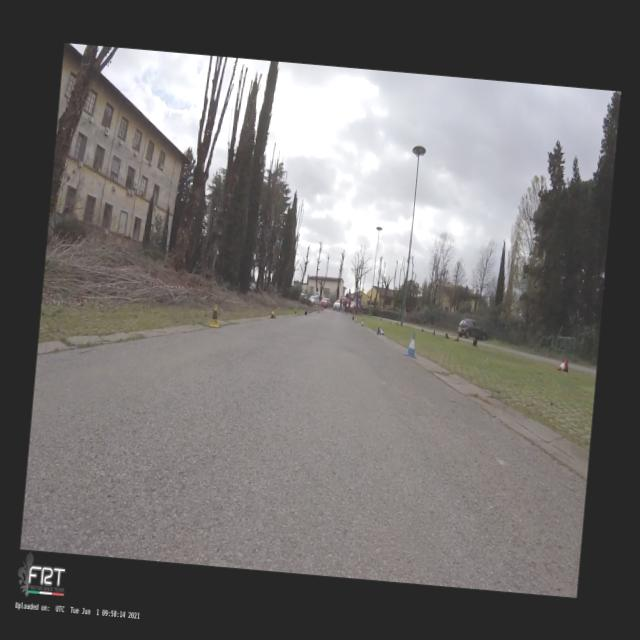blue_cone: (404, 331, 418, 358), (376, 326, 384, 336), (361, 318, 364, 327), (354, 316, 356, 322)
orange_cone: (556, 358, 568, 372)
unknown_cone: (472, 338, 478, 348), (452, 335, 459, 342), (444, 332, 450, 338), (432, 329, 435, 335), (304, 310, 307, 315)
yellow_cone: (207, 303, 222, 328), (268, 309, 276, 319), (292, 308, 298, 316)
